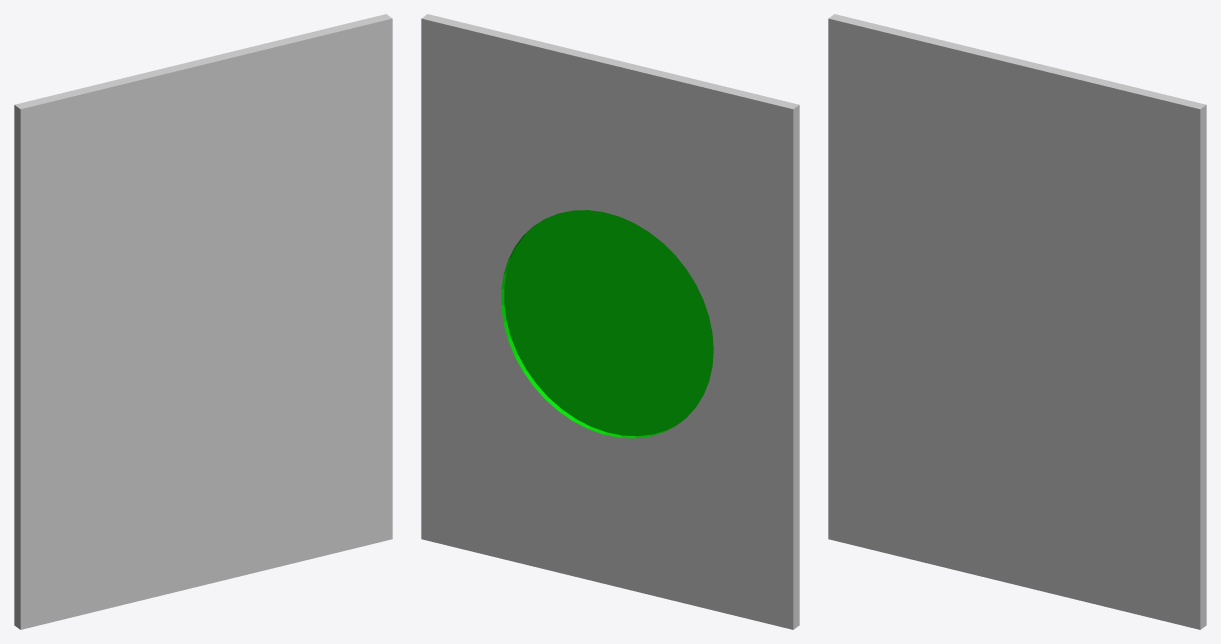
The model's file is green_circle.dae.
3 views of the same model, side by side, from view 1: azimuth 30°, elevation 25°; view 2: azimuth 150°, elevation 25°; view 3: azimuth 330°, elevation 25° (orthographic).
Visible parts, largest first — view 1: ShapeIndexedFaceSet; view 2: ShapeIndexedFaceSet; view 3: ShapeIndexedFaceSet.
Part boxes in pixels (x1=…): ShapeIndexedFaceSet: x1=14, y1=14, x2=392, y2=629; ShapeIndexedFaceSet: x1=421, y1=14, x2=799, y2=629; ShapeIndexedFaceSet: x1=828, y1=14, x2=1206, y2=629.
Bounding box in the file's own units: 1.75 × 0.0508 × 2.34.
